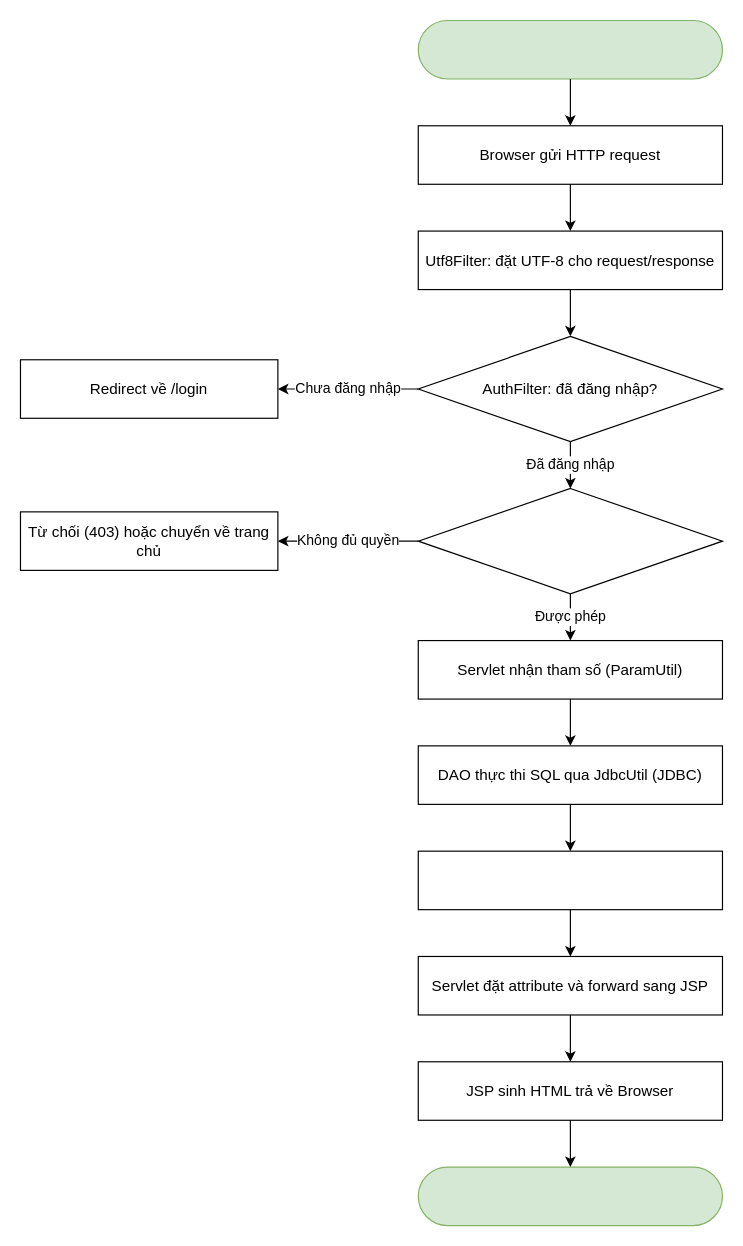
This 743x1246 diagram has some shape labels left out. Here are the shapes that lost their labels. From the top down, the box of each, then its label:
(417, 19, 722, 79): Bắt đầu: người dùng mở trình duyệt
(417, 487, 722, 594): URL /manager/* ?
(417, 850, 722, 910): SQL Server trả ResultSet
(417, 1166, 722, 1226): Kết thúc: Browser hiển thị trang
